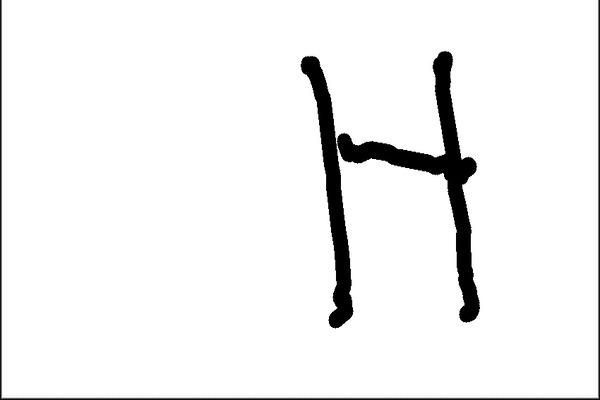H: (296, 47, 487, 331)
